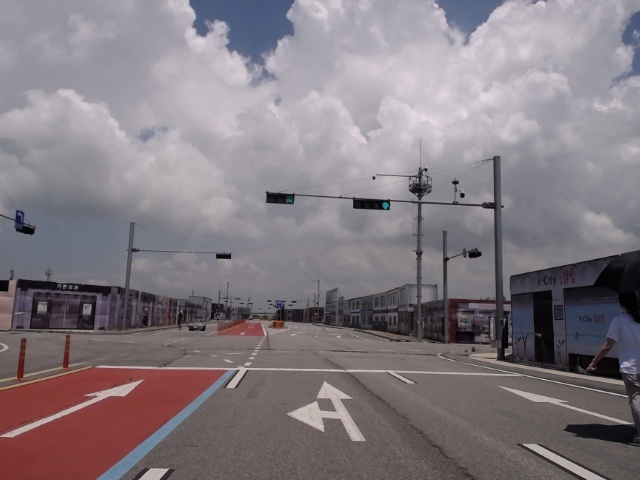straight_green_4: (354, 198, 391, 210)
